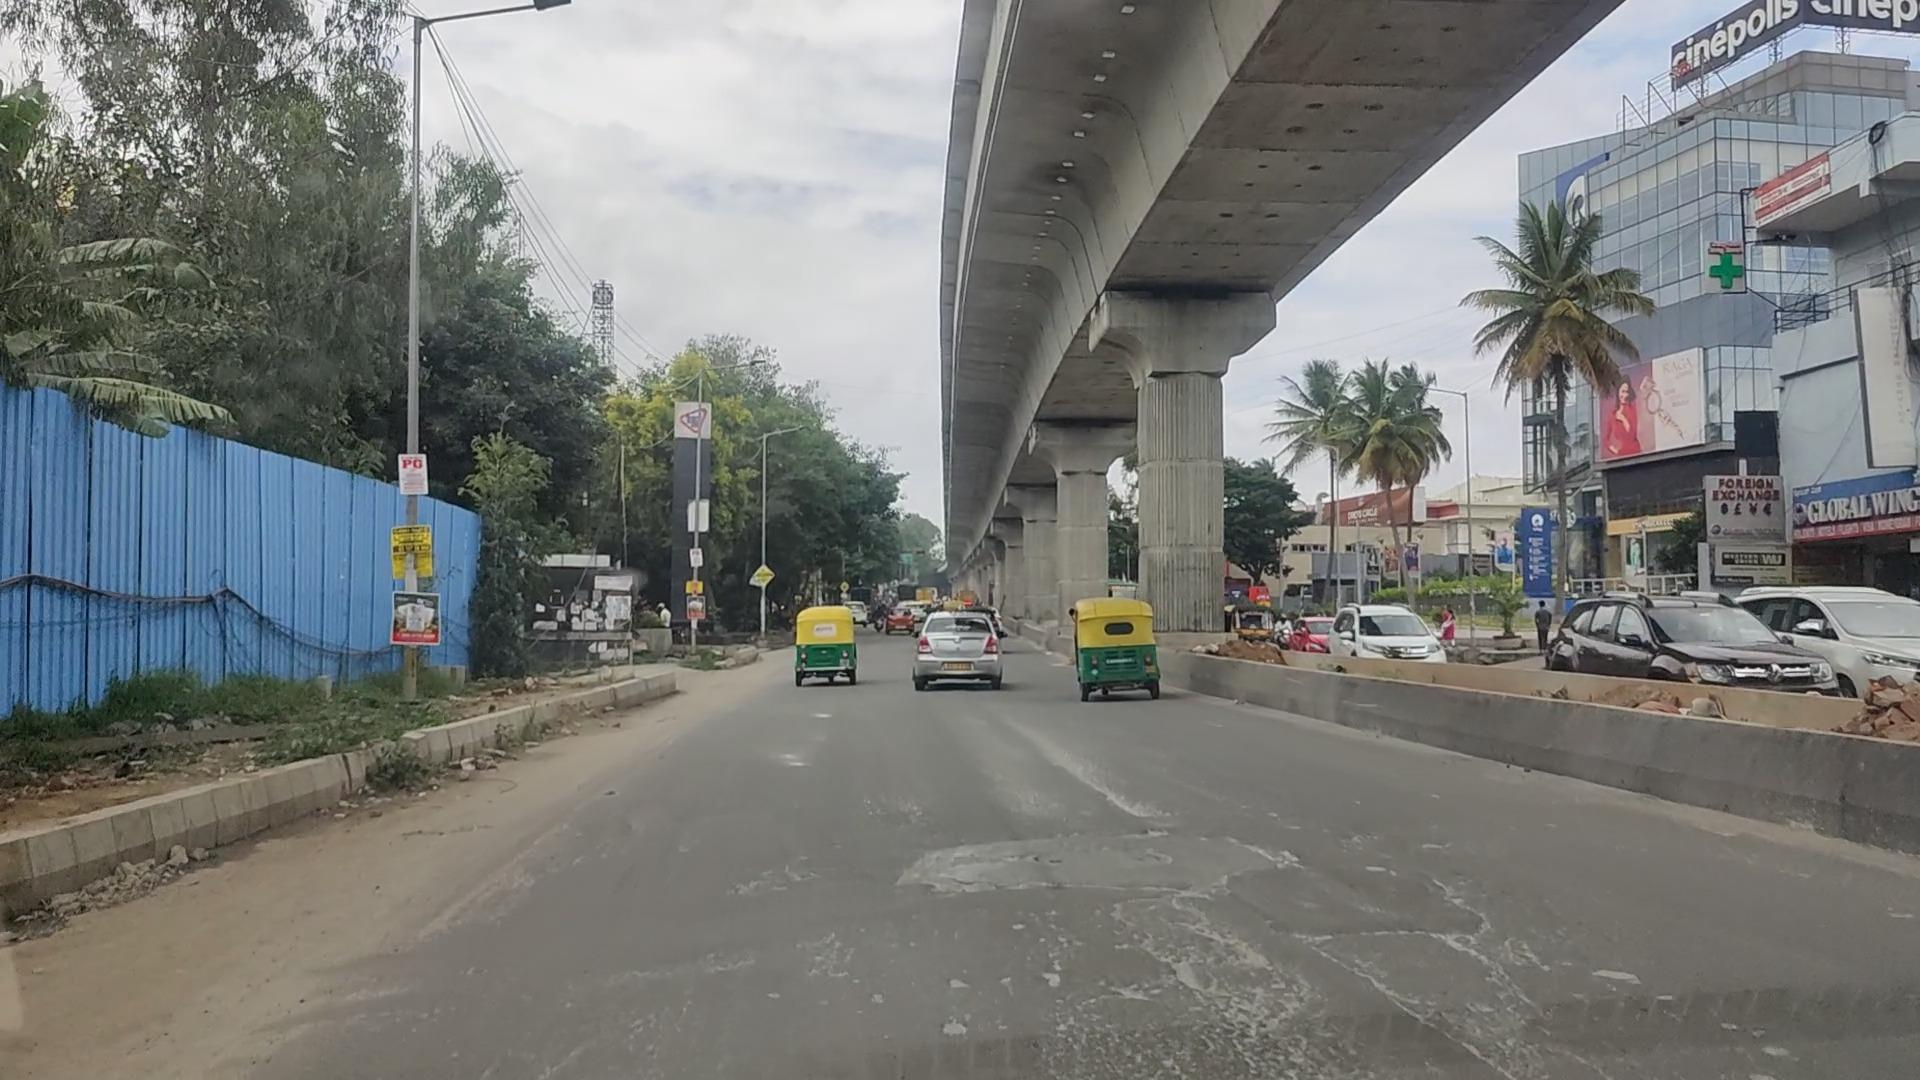LMV: (1069, 600, 1153, 708), (903, 613, 989, 694), (787, 604, 853, 687)
RoadDamages: (919, 820, 1295, 906), (1138, 909, 1312, 1059), (1331, 861, 1505, 969)
